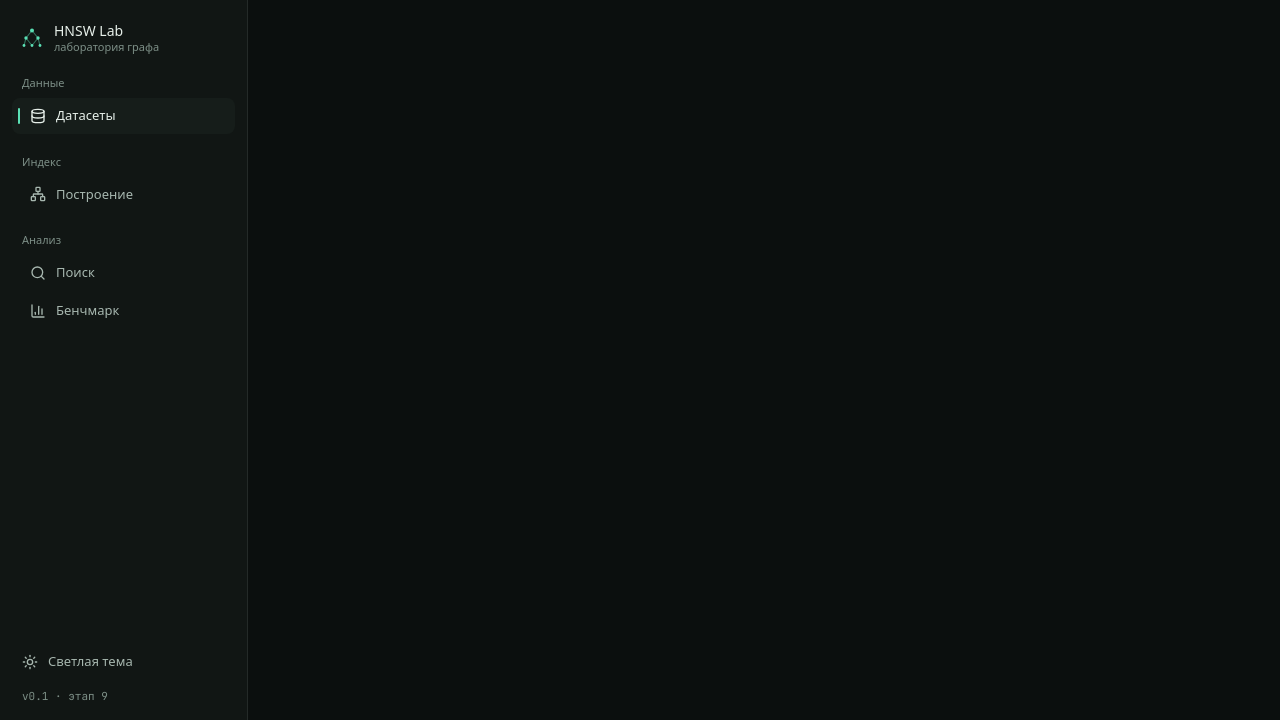
AppShell › switches between dark and light themes
Click the button "Светлая тема".
click(124, 662)  # box [12,644,235,680]
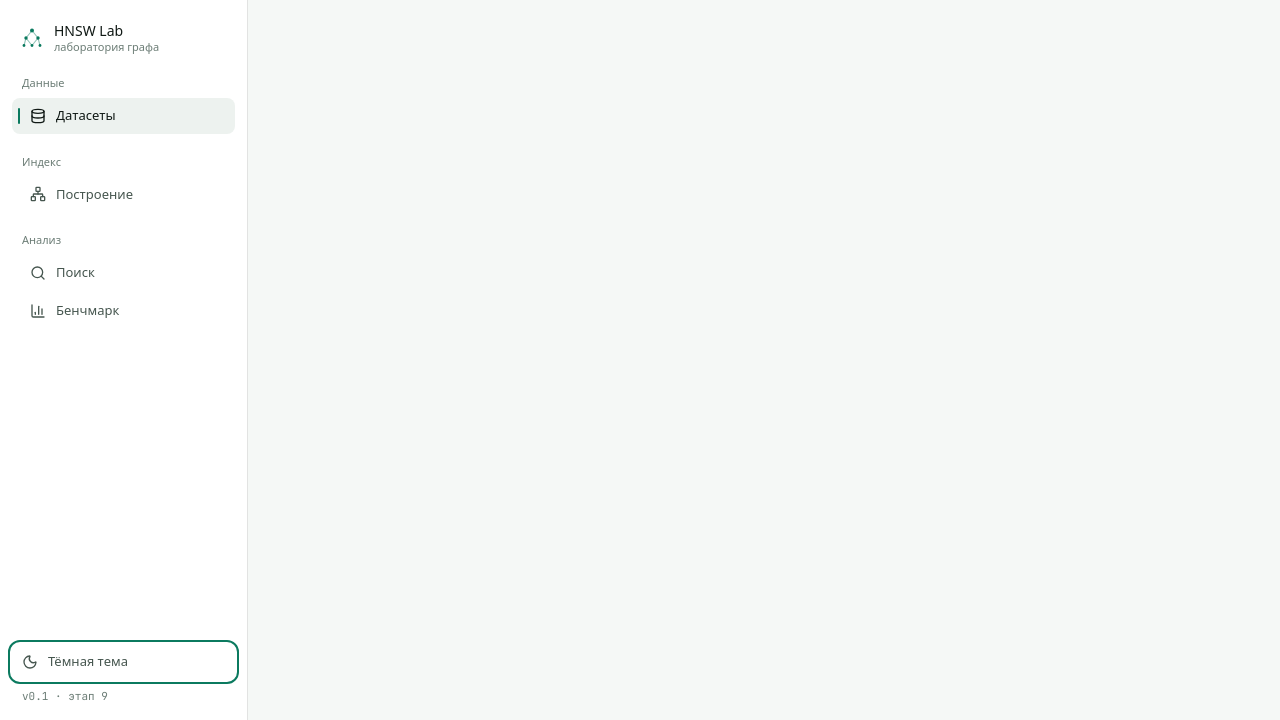
Now the button "Тёмная тема" is shown, box [12,644,235,680]
